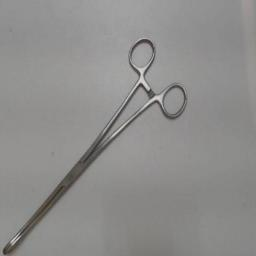Sponge Forceps: (0, 32, 192, 254)
